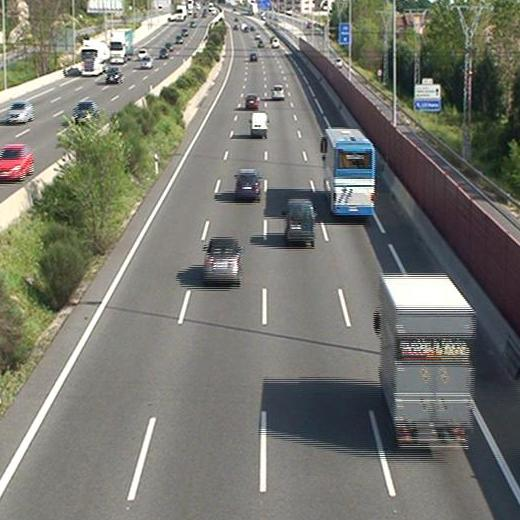bus: (324, 129, 376, 216)
car: (205, 240, 239, 282), (236, 170, 260, 198), (245, 95, 260, 109), (272, 86, 284, 98), (249, 53, 258, 61)
small-truck: (377, 277, 474, 444)
van: (285, 200, 313, 242), (250, 113, 267, 137)
